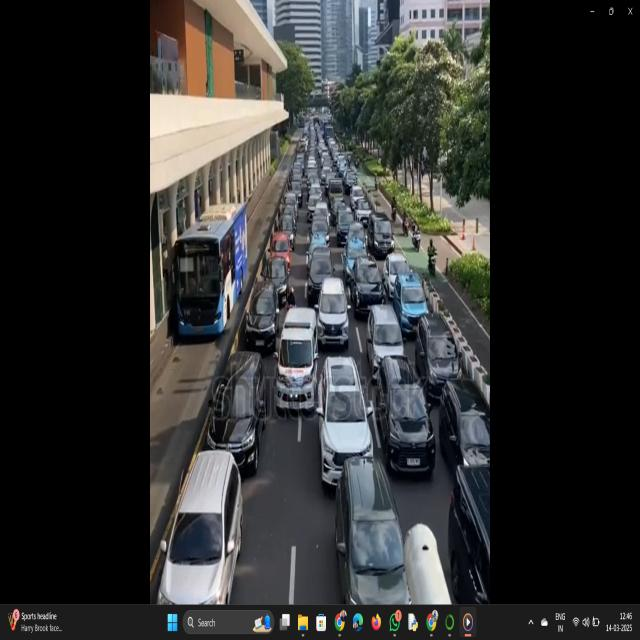Ambulance: (273, 302, 321, 416)
